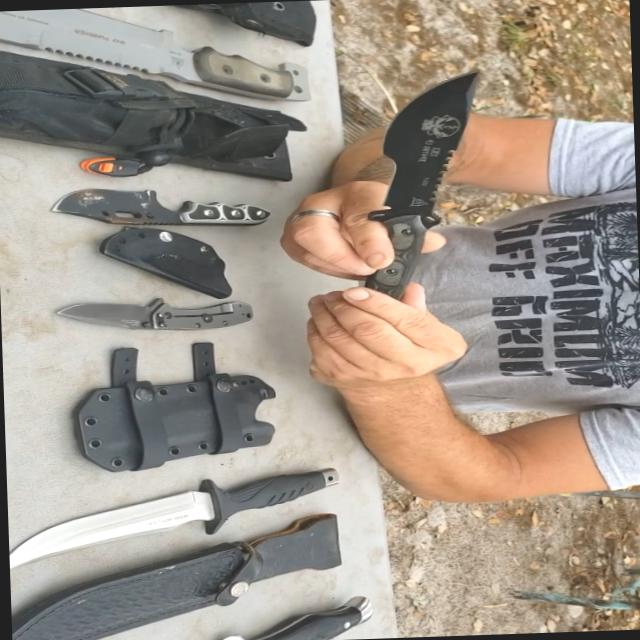knife: (13, 456, 348, 582), (344, 77, 501, 344), (8, 0, 321, 111), (64, 272, 298, 352), (52, 165, 286, 241)
